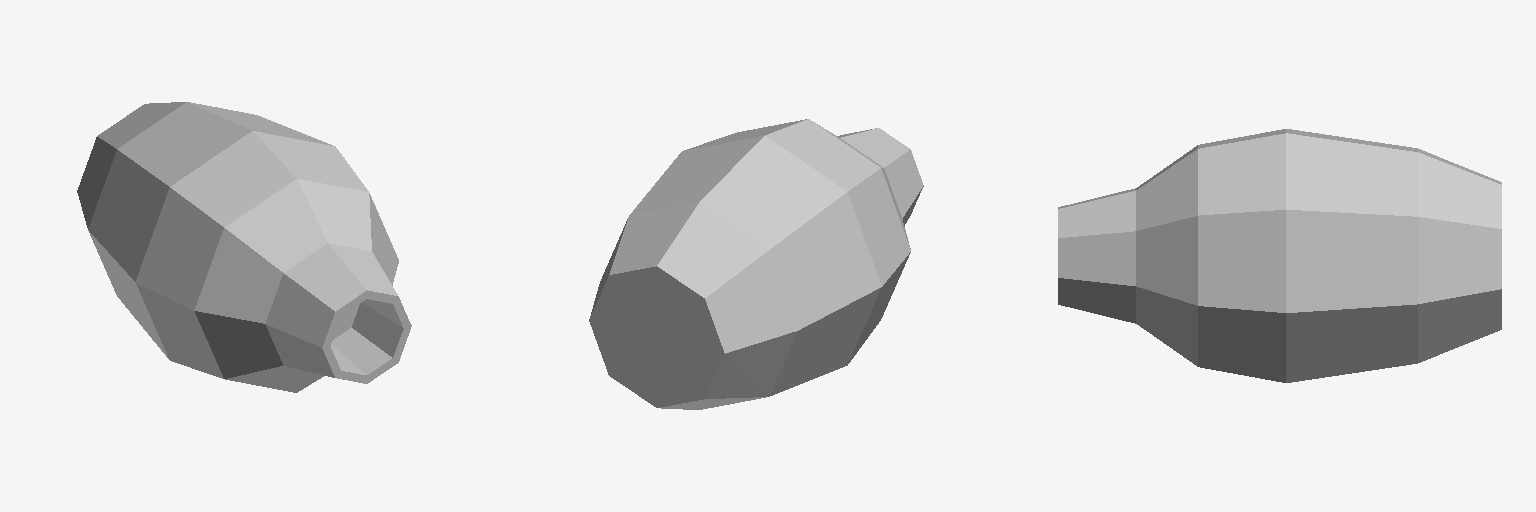
Rendered from X (Command Mission Outfit) Buster G.obj.
3 views of the same model, side by side, from view 1: azimuth 30°, elevation 25°; view 2: azimuth 150°, elevation 25°; view 3: azimuth 270°, elevation 25° (orthographic).
Parts seen in each view (by area): view 1: Buster_018_G_-_Buster_018_G_56646_[TCP2_Smoothed]; view 2: Buster_018_G_-_Buster_018_G_56646_[TCP2_Smoothed]; view 3: Buster_018_G_-_Buster_018_G_56646_[TCP2_Smoothed].
Part boxes in pixels (x1,y1,x2,y2): Buster_018_G_-_Buster_018_G_56646_[TCP2_Smoothed]: (77, 102, 411, 392); Buster_018_G_-_Buster_018_G_56646_[TCP2_Smoothed]: (589, 119, 923, 409); Buster_018_G_-_Buster_018_G_56646_[TCP2_Smoothed]: (1058, 129, 1501, 382).
Bounding box in the file's own units: 0.2031 × 0.2031 × 0.3328.